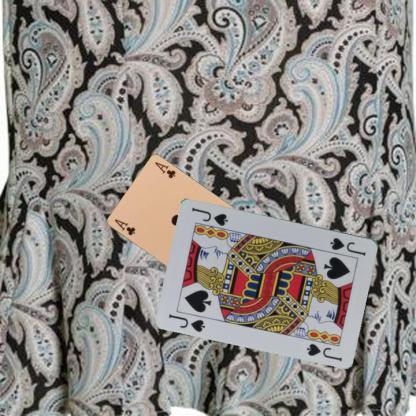Ac: (112, 217, 136, 237)
Js: (166, 310, 207, 334), (327, 235, 368, 258)
